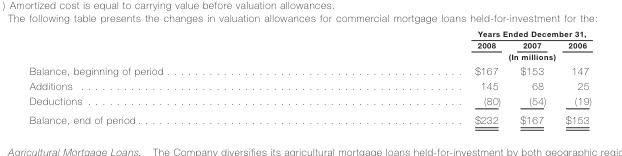table: (28, 28, 590, 125)
table column: (28, 28, 318, 125), (318, 28, 509, 125), (509, 28, 555, 125), (555, 28, 590, 125)
table column header: (28, 28, 590, 62)
table row: (28, 93, 590, 110), (28, 62, 590, 78), (28, 78, 590, 93), (28, 110, 590, 125), (28, 38, 590, 50), (28, 50, 590, 62), (28, 28, 590, 38)
table spanning cell: (318, 50, 590, 62), (318, 28, 590, 38)
